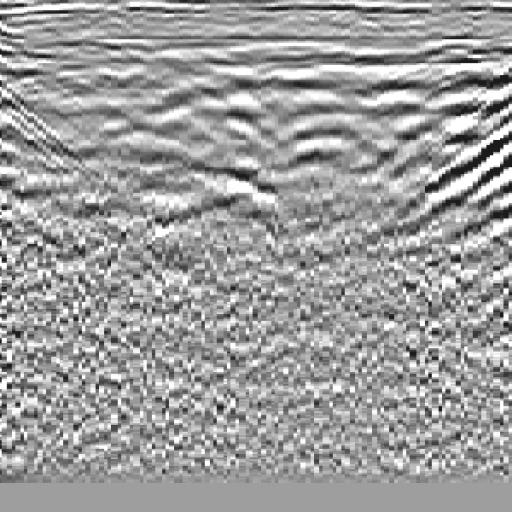metalic: (162, 46, 337, 285)
nonmetalic: (399, 60, 512, 273)
